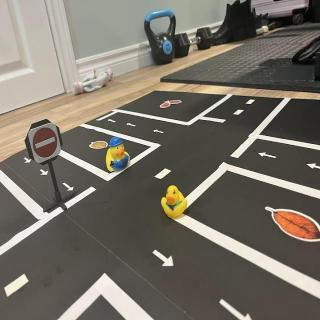duck_regular: (161, 184, 190, 220)
duck_specialty: (105, 135, 133, 174)
road_oneway: (217, 296, 254, 320), (153, 247, 177, 271), (259, 149, 278, 163), (305, 160, 320, 172), (63, 182, 76, 195), (152, 127, 167, 137), (125, 120, 139, 130), (23, 156, 33, 166), (41, 168, 50, 178), (107, 118, 119, 125)
sign_noentry: (29, 122, 64, 167)
